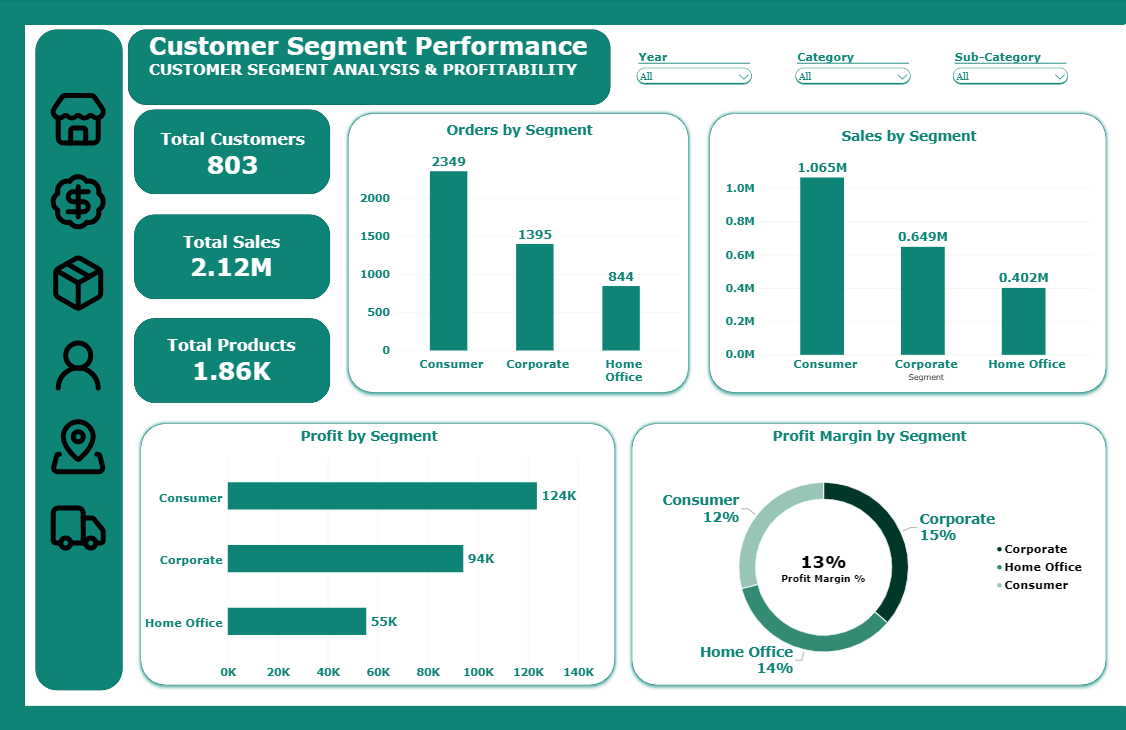

Layout of this report page (visuals, bound fields, positions):
{"tool":"powerbi","page":{"name":"04 Customer Segment Performance","canvas":[2000,1300],"ordinal":3},"visuals":[{"type":"shape","box":[0,0,1999.7,48.2],"z":0},{"type":"shape","box":[228.4,55.6,855.8,134.4],"z":0,"group":"g2"},{"type":"textbox","box":[265.3,58.6,804.2,117.4],"z":1000,"group":"g2"},{"type":"group","id":"g1","title":"Group 2","box":[239.3,197.2,347.8,150.6],"z":1000},{"type":"shape","box":[0,1253.9,2000.5,46.5],"z":2000},{"type":"shape","box":[0,0,46.5,1300.5],"z":3000},{"type":"shape","box":[239.3,197.2,347.8,150.6],"z":3000,"group":"g1"},{"type":"shape","box":[239.3,382.2,347.8,150.6],"z":3000,"group":"g3"},{"type":"shape","box":[239.3,567.1,347.8,150.6],"z":3000,"group":"g4"},{"type":"shape","box":[64.2,55.4,155.1,1172],"z":4000},{"type":"shape","box":[241.5,744.4,859.6,483],"z":5000},{"type":"group","id":"g2","title":"Group 1","box":[228.4,55.6,855.8,134.4],"z":6000},{"type":"slicer","fields":{"Values":["Sales.Ship Date.Variation.Date Hierarchy.Year"]},"box":[1124.6,90.9,213.9,71.9],"z":7000},{"type":"slicer","fields":{"Values":["Sales.Category"]},"box":[1687,90.9,213.9,71.9],"z":8000},{"type":"slicer","fields":{"Values":["Sales.Region"]},"box":[1405.8,90.9,213.9,71.9],"z":9000},{"type":"group","id":"g3","title":"Group 2","box":[239.3,382.2,347.8,150.6],"z":10000},{"type":"group","id":"g4","title":"Group 2","box":[239.3,567.1,347.8,150.6],"z":11000},{"type":"cardVisual","fields":{"Data":["Page4 Measures.Total Customers"]},"box":[256.4,212.3,314.6,128.5],"z":11001,"group":"g1"},{"type":"cardVisual","fields":{"Data":["Page1 Measures.Total Sales"]},"box":[276.6,390.5,270.9,134.7],"z":11001,"group":"g3"},{"type":"cardVisual","fields":{"Data":["Page3 Measures.Total Products"]},"box":[276.6,575.4,270.9,134.7],"z":11001,"group":"g4"},{"type":"shape","box":[609.2,193.8,622.5,514],"z":12000},{"type":"shape","box":[1249.5,193.8,722.2,514],"z":13000},{"type":"clusteredBarChart","title":"Profit by Segment","fields":{"Category":["Sales.Segment"],"Y":["Page1 Measures.Total Profit"]},"box":[241.5,746.6,828.6,480.7],"z":14000},{"type":"shape","box":[1112.1,744.4,859.6,483],"z":15000},{"type":"donutChart","title":"Profit Margin by Segment","fields":{"Category":["Sales.Segment"],"Y":["Page1 Measures.Profit Margin %"]},"box":[1140.9,746.6,804.2,480.7],"z":16000},{"type":"image","box":[86.4,163.9,108.6,106.2],"z":17000,"group":"g5"},{"type":"columnChart","title":"Orders by Segment","fields":{"Category":["Sales.Segment"],"Y":["Page1 Measures.Total Orders"]},"box":[622.5,203.8,600.4,498.5],"z":17000},{"type":"clusteredColumnChart","title":"Sales by Segment","fields":{"Category":["Sales.Segment"],"Y":["Page1 Measures.Total Sales"]},"box":[1271.6,214.9,682.3,480.7],"z":18000},{"type":"image","box":[86.4,308.4,108.6,106.2],"z":18000,"group":"g5"},{"type":"group","id":"g5","title":"Group 7","box":[86.4,163.9,108.6,828.6],"z":18001},{"type":"image","box":[86.4,452.8,108.6,106.2],"z":19000,"group":"g5"},{"type":"image","box":[86.4,597.3,108.6,106.2],"z":20000,"group":"g5"},{"type":"image","box":[86.4,741.8,108.6,106.2],"z":21000,"group":"g5"},{"type":"image","box":[86.4,886.2,108.6,106.2],"z":22000,"group":"g5"}]}

Visuals, with their boxes in screenshot pixels (x1, y1, x2, y2), scaled from the page's 2000x1300 canvas onto the 1126x730 screenshot:
shape: BBox(0, 0, 1125, 27)
shape: BBox(129, 31, 610, 107)
textbox: BBox(149, 33, 602, 99)
"Group 2" group: BBox(135, 111, 331, 195)
shape: BBox(0, 704, 1125, 729)
shape: BBox(0, 0, 26, 729)
shape: BBox(135, 111, 331, 195)
shape: BBox(135, 215, 331, 299)
shape: BBox(135, 318, 331, 403)
shape: BBox(36, 31, 123, 689)
shape: BBox(136, 418, 620, 689)
"Group 1" group: BBox(129, 31, 610, 107)
slicer - Sales.Ship Date.Variation.Date Hierarchy.Year: BBox(633, 51, 754, 91)
slicer - Sales.Category: BBox(950, 51, 1070, 91)
slicer - Sales.Region: BBox(791, 51, 912, 91)
"Group 2" group: BBox(135, 215, 331, 299)
"Group 2" group: BBox(135, 318, 331, 403)
cardVisual - Page4 Measures.Total Customers: BBox(144, 119, 321, 191)
cardVisual - Page1 Measures.Total Sales: BBox(156, 219, 308, 295)
cardVisual - Page3 Measures.Total Products: BBox(156, 323, 308, 399)
shape: BBox(343, 109, 693, 397)
shape: BBox(703, 109, 1110, 397)
"Profit by Segment" clusteredBarChart: BBox(136, 419, 602, 689)
shape: BBox(626, 418, 1110, 689)
"Profit Margin by Segment" donutChart: BBox(642, 419, 1095, 689)
image: BBox(49, 92, 110, 152)
"Orders by Segment" columnChart: BBox(350, 114, 688, 394)
"Sales by Segment" clusteredColumnChart: BBox(716, 121, 1100, 391)
image: BBox(49, 173, 110, 233)
"Group 7" group: BBox(49, 92, 110, 557)
image: BBox(49, 254, 110, 314)
image: BBox(49, 335, 110, 395)
image: BBox(49, 417, 110, 476)
image: BBox(49, 498, 110, 557)
